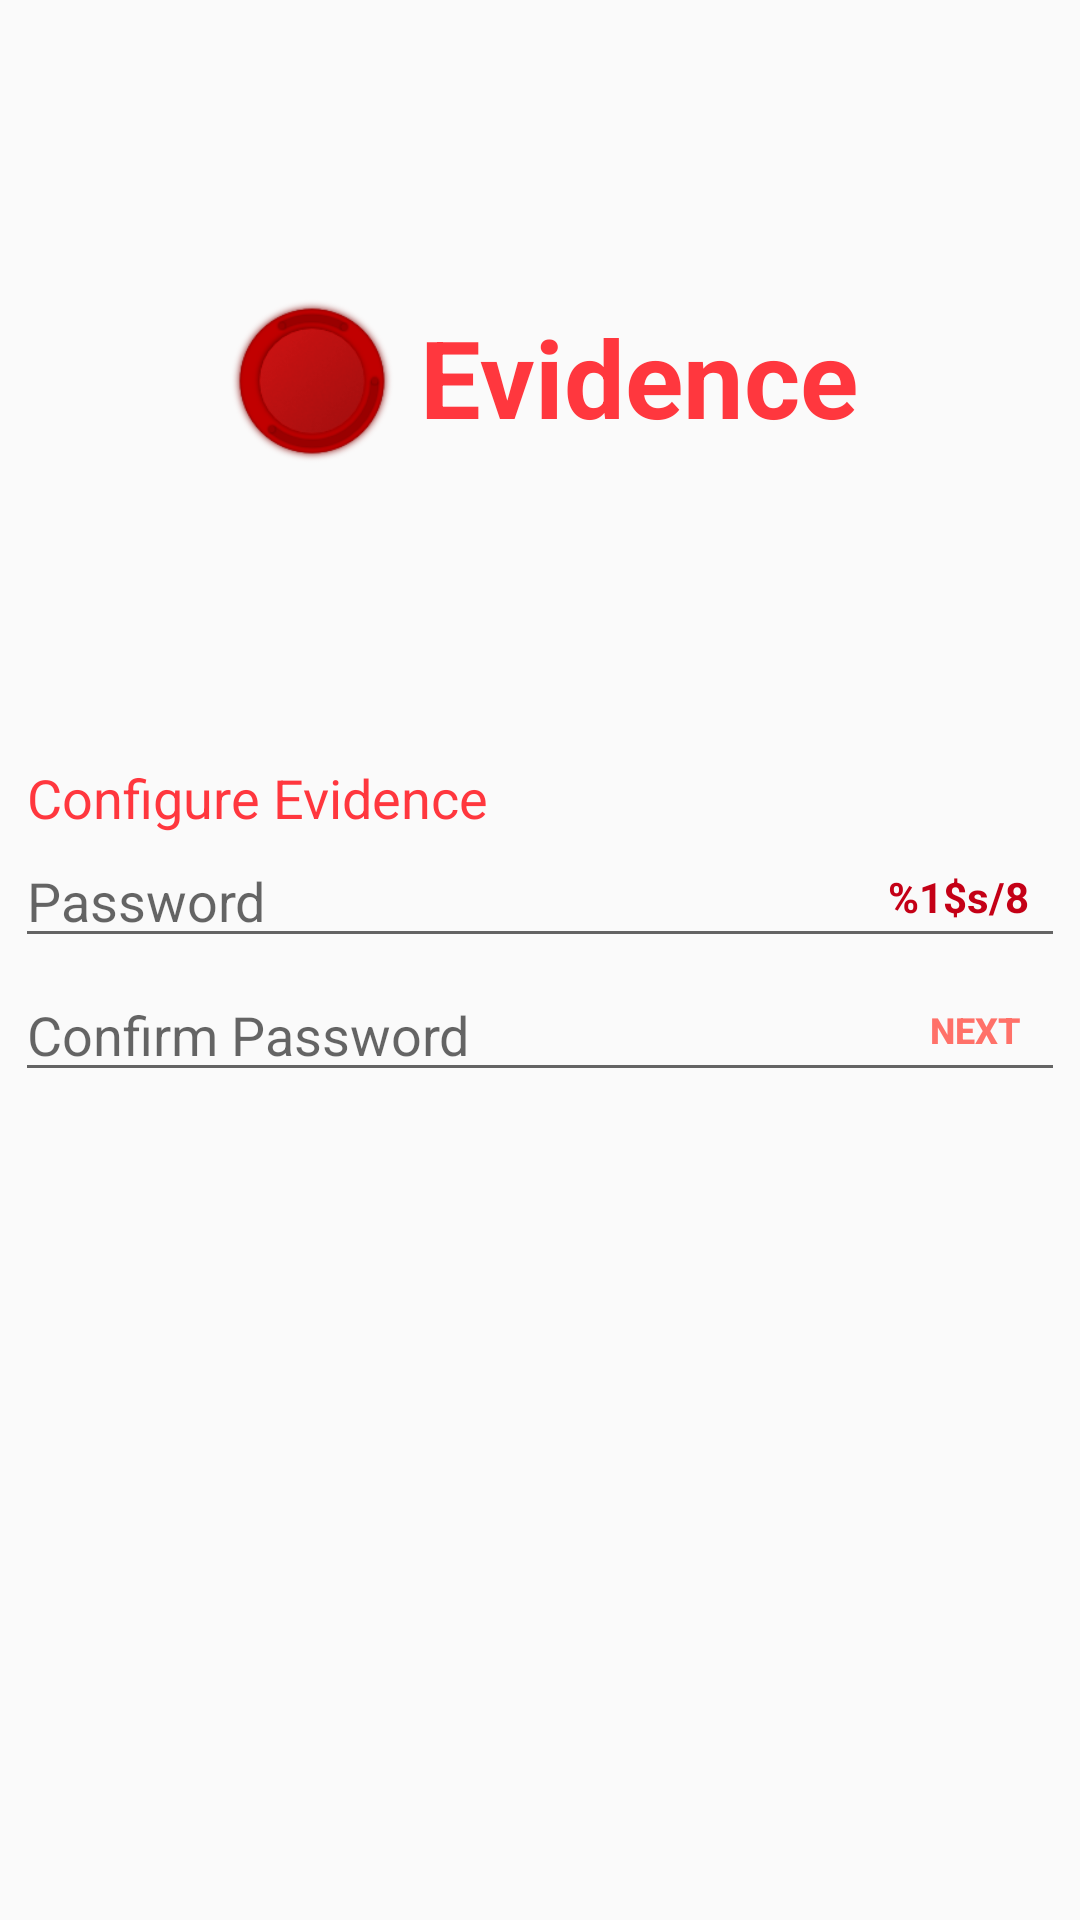

Screen size 1080×1920. Icon name, then its center in pixels as (x,y):
round: (312,381)
